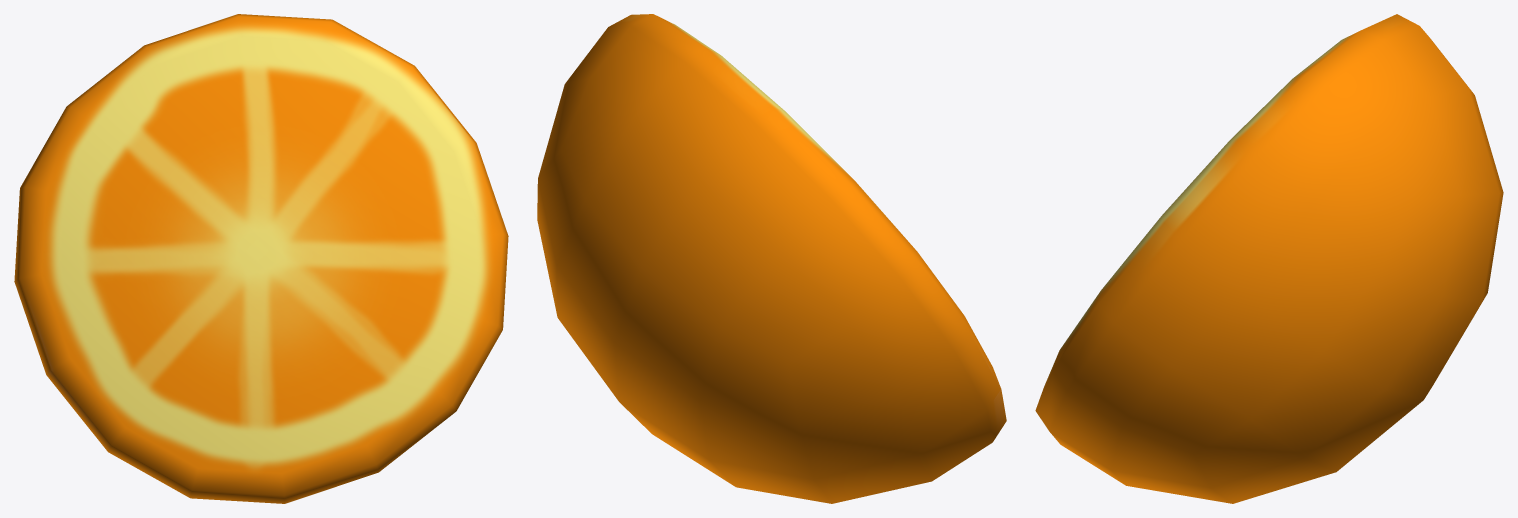
File: half orange.fbx
The picture shows the model from 3 angles, left to right: view 1: azimuth 30°, elevation 25°; view 2: azimuth 150°, elevation 25°; view 3: azimuth 270°, elevation 25°; orthographic projection. The views are drawn at different scales.
Parts seen in each view (by area): view 1: Cube.003; view 2: Cube.003; view 3: Cube.003.
Part boxes in pixels (<box>): Cube.003: <box>14,14,508,503</box>; Cube.003: <box>537,14,1006,503</box>; Cube.003: <box>1035,14,1503,503</box>.
Bounding box in the file's own units: 18.66 × 18.28 × 16.58.
1 material, 1 textured.
